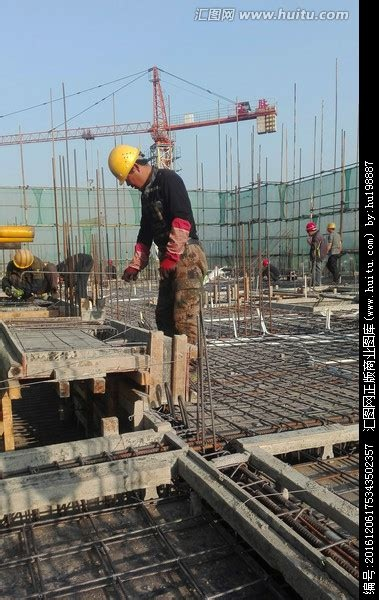red: (304, 223, 317, 237)
yellow: (107, 142, 150, 194), (13, 249, 33, 274), (326, 222, 337, 235)
